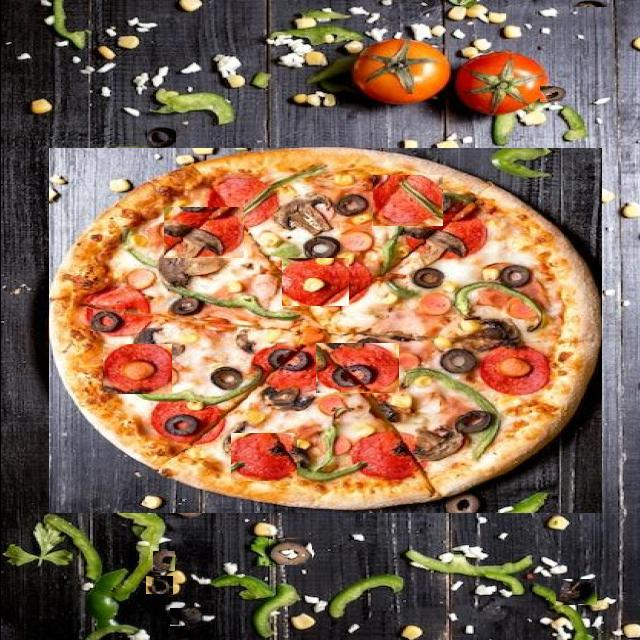olive: (152, 406, 197, 436), (268, 539, 311, 565), (555, 579, 596, 605), (174, 350, 210, 374), (310, 238, 346, 262), (452, 414, 487, 438), (168, 494, 204, 517), (115, 265, 149, 288), (281, 194, 315, 216), (146, 123, 175, 148), (266, 336, 296, 359), (411, 366, 437, 392), (340, 449, 373, 468), (529, 312, 560, 332), (440, 209, 467, 231), (169, 608, 201, 626), (339, 348, 365, 370), (448, 298, 478, 316), (248, 403, 272, 425), (361, 348, 385, 369), (145, 576, 172, 594), (211, 269, 236, 287), (152, 551, 174, 571), (539, 86, 566, 102), (202, 196, 226, 214), (571, 0, 606, 7)
pepperoni: (163, 208, 243, 260), (315, 343, 398, 393), (372, 175, 442, 226), (102, 344, 171, 394), (424, 399, 498, 444), (281, 258, 348, 306), (230, 433, 296, 481), (499, 286, 562, 336)
pizza: (48, 148, 601, 513)
